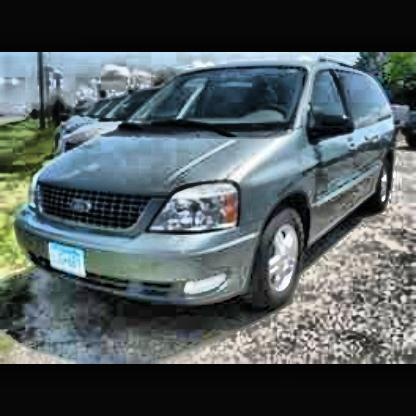Ford Freestar Minivan 2007: (15, 59, 396, 311)
